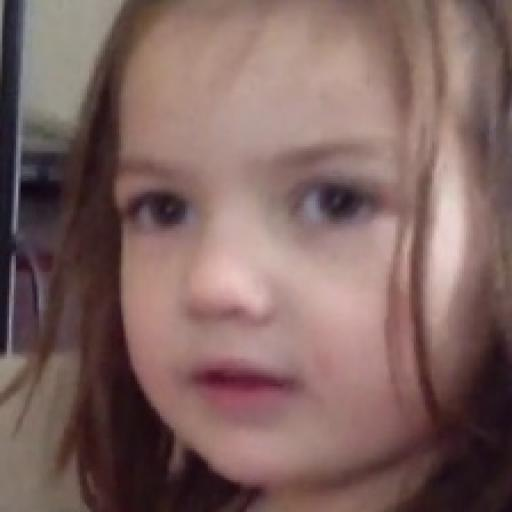Autism: (90, 0, 512, 483)
